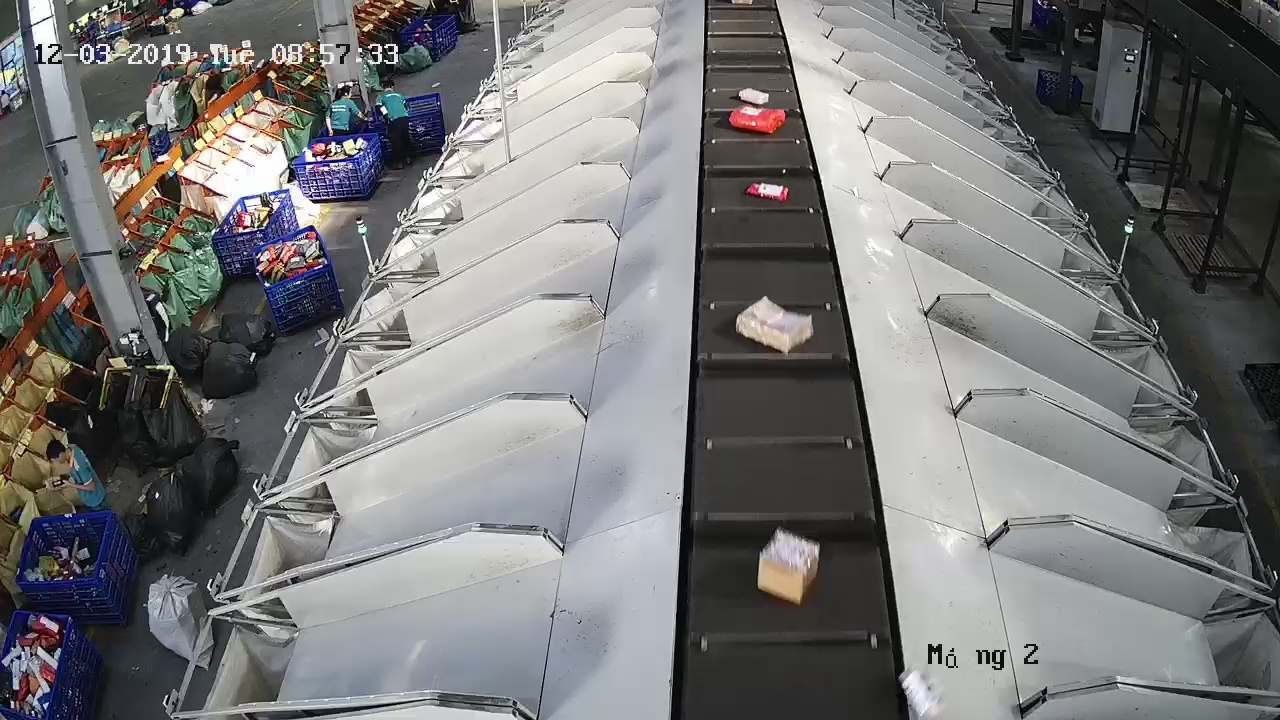parcel: (756, 524, 822, 606), (734, 294, 815, 355), (897, 665, 945, 720), (744, 181, 790, 203)
